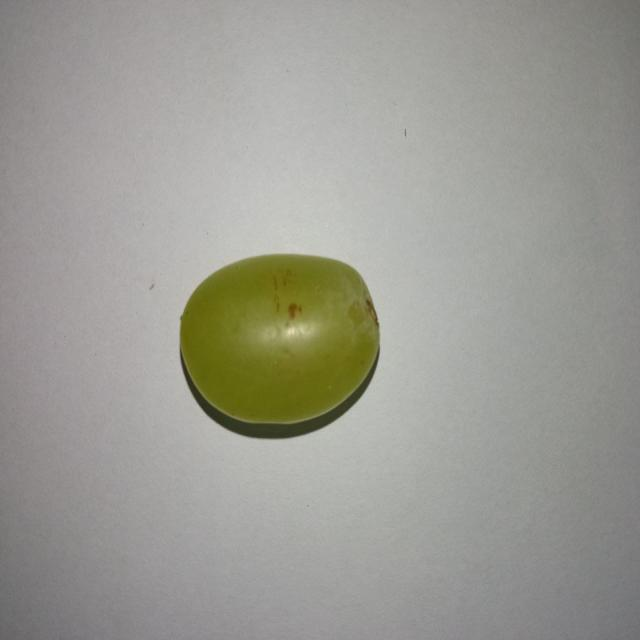fresh_grape: (177, 248, 379, 426)
